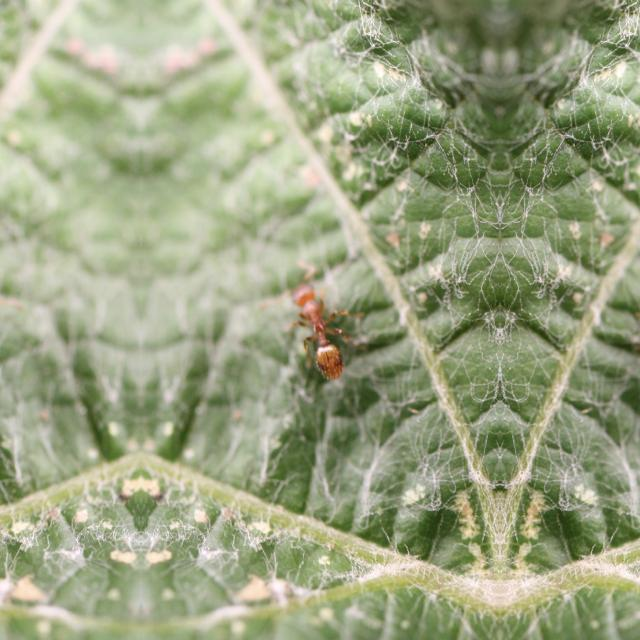Temnothorax: (270, 250, 366, 394)
